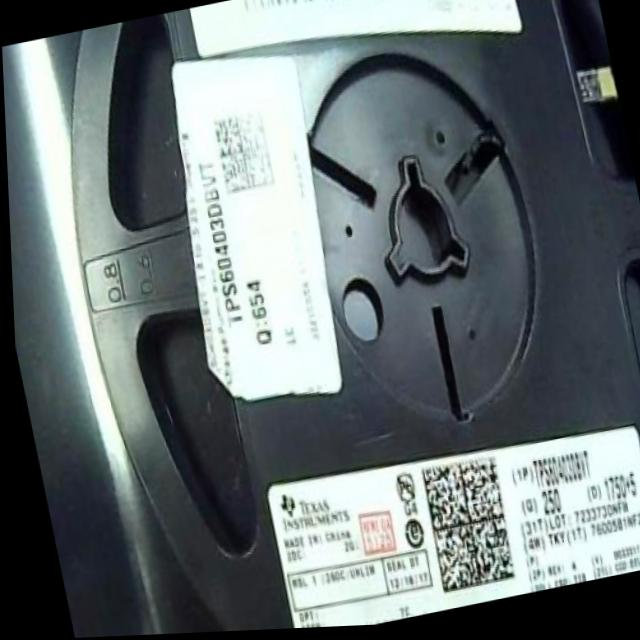datamatrix: (413, 454, 517, 604), (209, 108, 277, 201)
